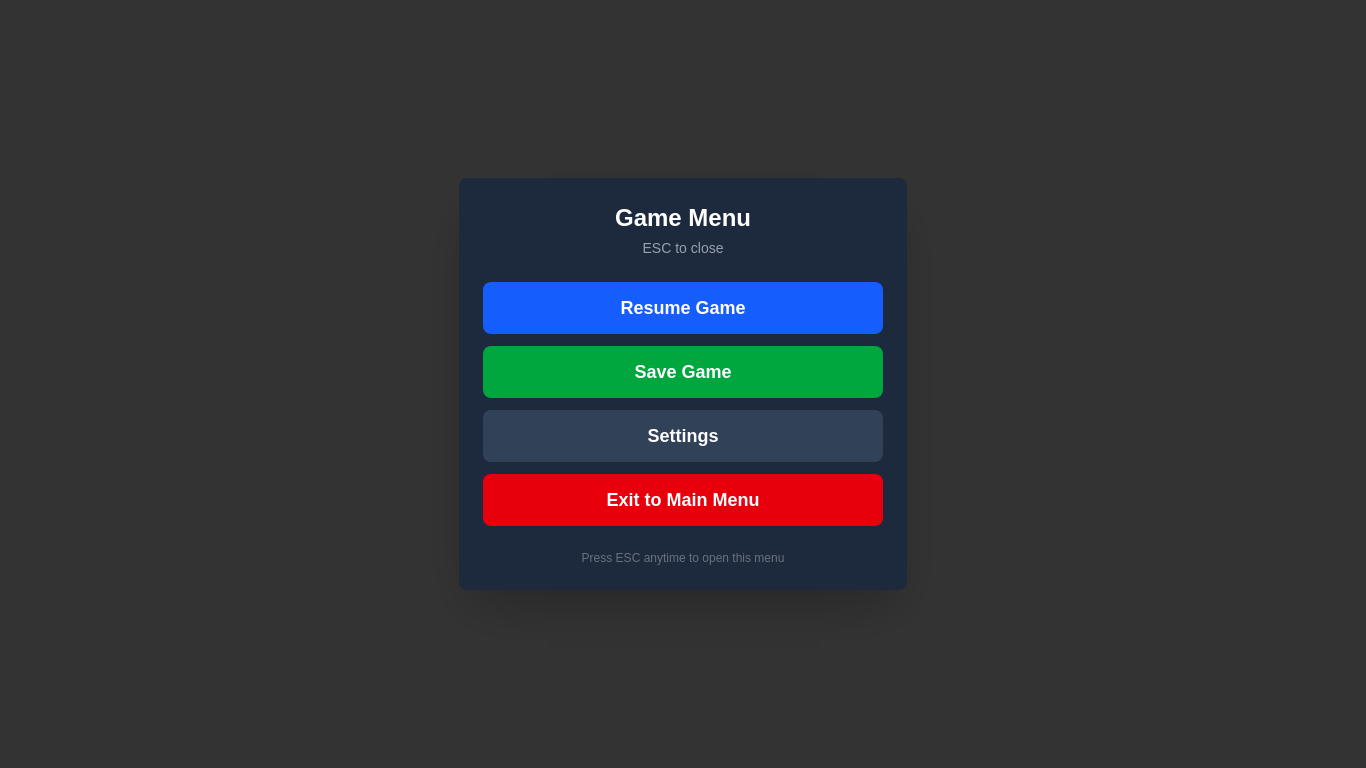
Test: InGameMenu › should disable save button while saving
Click the button "Save Game" at (683, 372), box [483, 346, 883, 398]
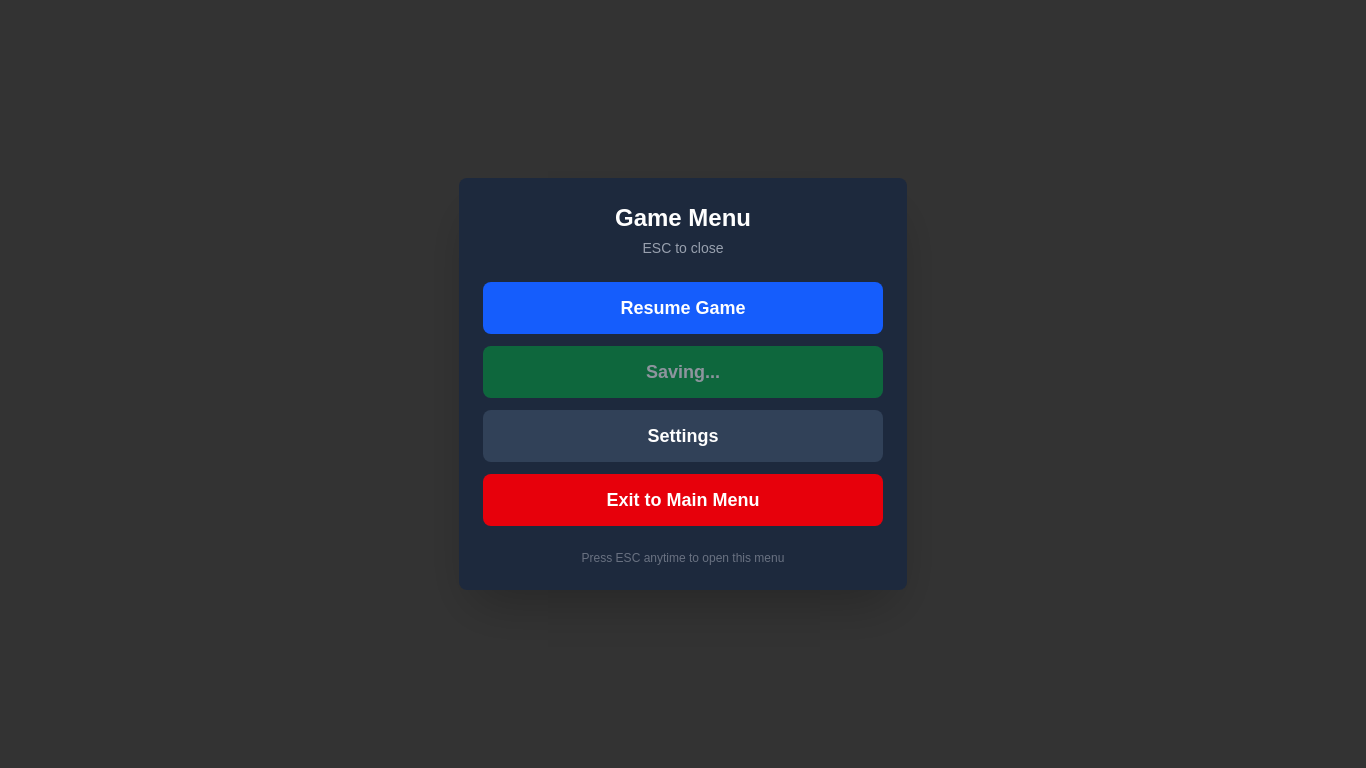
Expected: the button "Saving..." is disabled, [483, 346, 883, 398]
